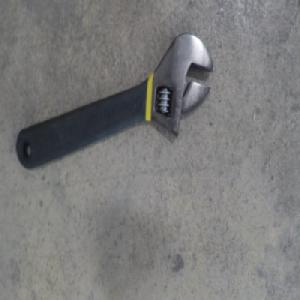AdjustableWrench: (18, 34, 216, 170)
